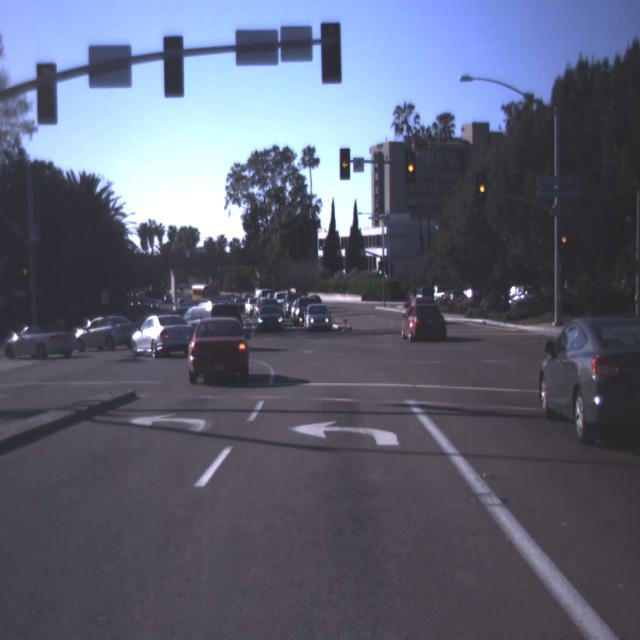arka_lamba: (36, 63, 58, 125), (320, 23, 342, 84), (164, 36, 184, 98)
sari: (476, 171, 487, 204), (405, 152, 416, 184), (340, 148, 350, 180)
